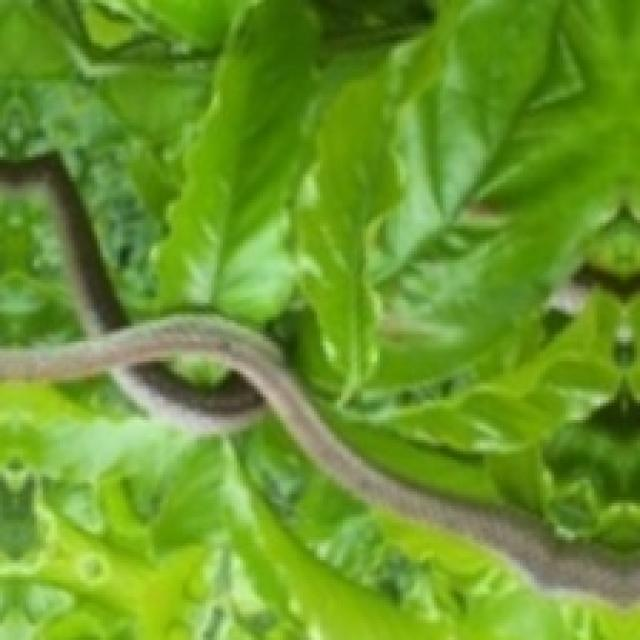paradise tree snake: (0, 154, 637, 606), (217, 437, 391, 634), (77, 423, 200, 531), (111, 363, 260, 431)
